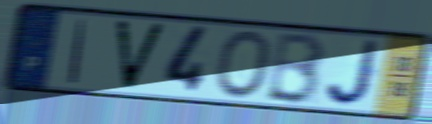4: (160, 22, 211, 99)
B: (263, 31, 328, 108)
I: (66, 17, 90, 86)
J: (323, 38, 383, 109)
O: (213, 28, 274, 101)
V: (112, 17, 170, 93)
